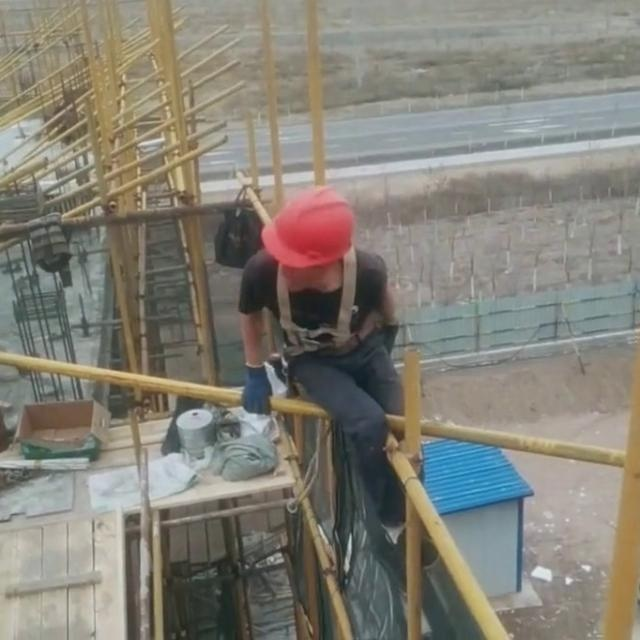Arnes_seguridad: (268, 240, 369, 363)
